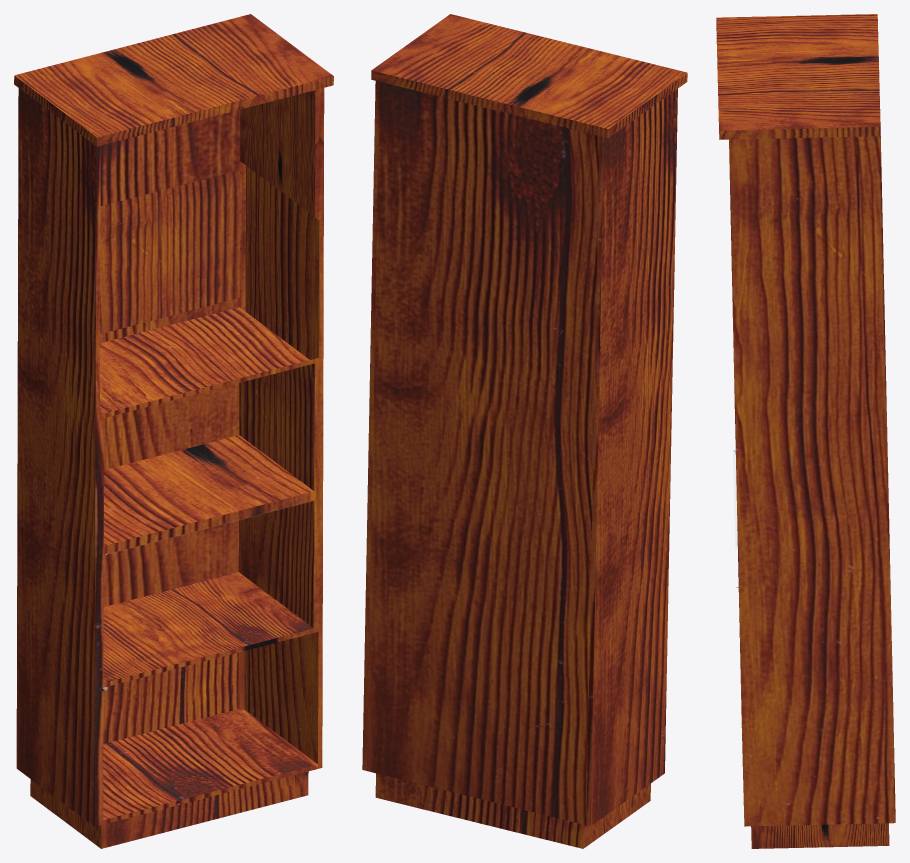
The model's file is modi_desk.obj.
3 renders of one model, left to right at view 1: azimuth 30°, elevation 25°; view 2: azimuth 150°, elevation 25°; view 3: azimuth 270°, elevation 25°, orthographic.
Visible parts, largest first — view 1: Default; view 2: Default; view 3: Default.
Boxes of the visible parts, x1,y1,x2,y2 form: Default: [14, 14, 333, 848]; Default: [362, 14, 687, 848]; Default: [716, 14, 895, 848].
Bounding box in the file's own units: 0.6172 × 1.8 × 0.4019.
3 materials, 1 textured.
